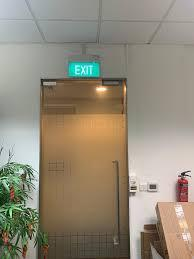exit: (40, 79, 128, 258)
lit_exit_sign: (69, 62, 99, 76)
